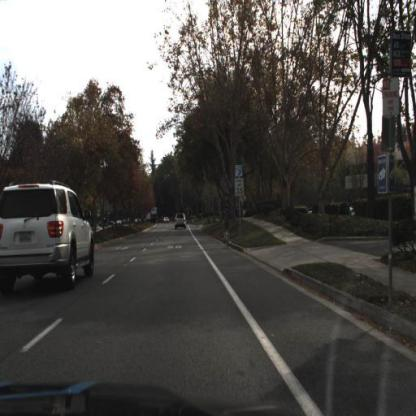biker: (219, 204, 235, 251), (221, 205, 233, 253)
car: (1, 175, 96, 298), (173, 211, 189, 232)
